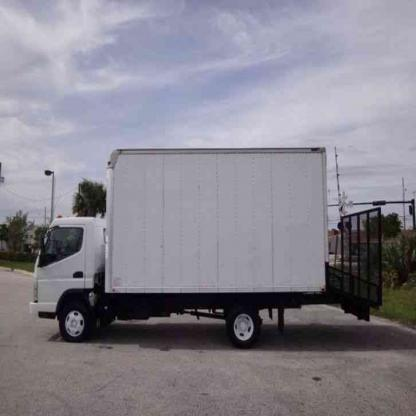truck: (29, 141, 385, 338)
